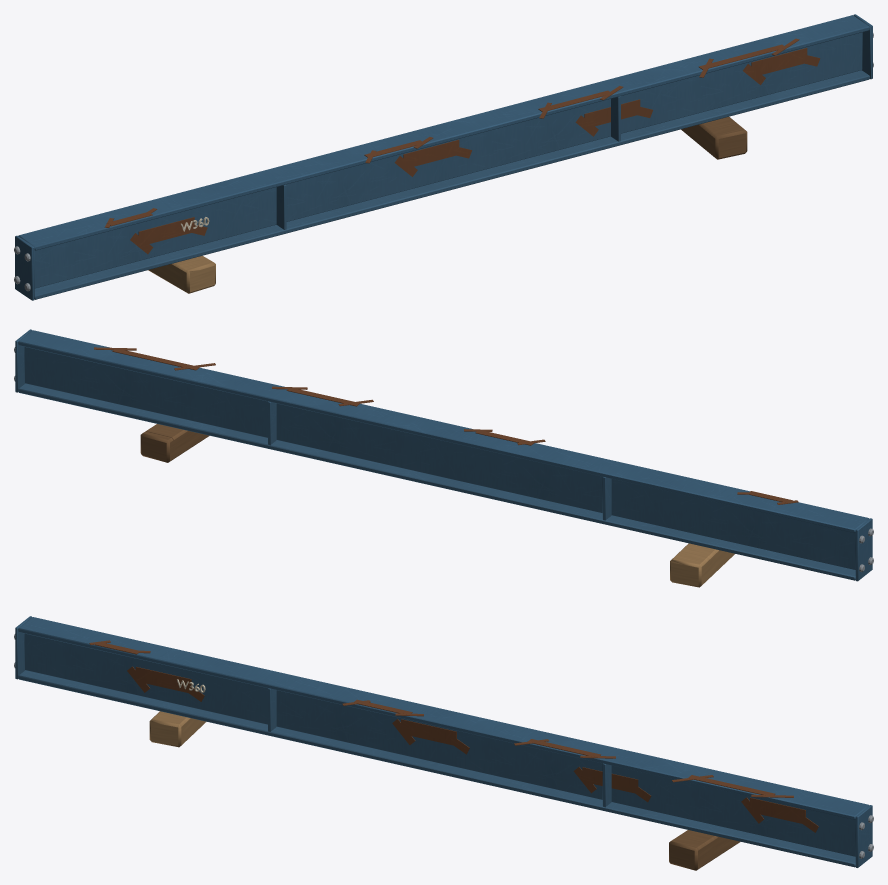
File: ibeam_long.glb
3 renders of one model, top to bottom at view 1: azimuth 30°, elevation 25°; view 2: azimuth 150°, elevation 25°; view 3: azimuth 330°, elevation 25°, orthographic. The views are drawn at different scales.
Parts seen in each view (by area): view 1: ibeam_long; view 2: ibeam_long; view 3: ibeam_long.
Boxes of the visible parts, left/top/right/bottom form: ibeam_long: left=14, top=14, right=873, bottom=300; ibeam_long: left=14, top=329, right=873, bottom=587; ibeam_long: left=14, top=616, right=873, bottom=870.
Size of the model in its own units: 6.08 by 0.524 by 0.6628.
6 materials, 6 textured.
